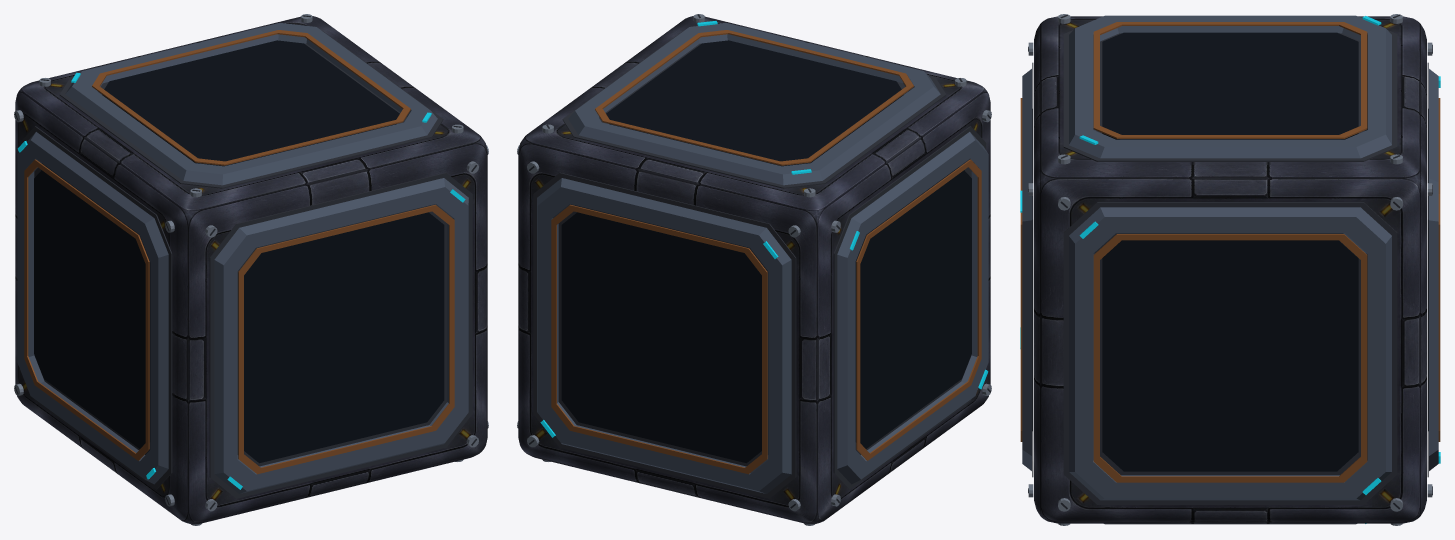
File: rounded-metal-cube.glb
The picture shows the model from 3 angles, left to right: view 1: azimuth 30°, elevation 25°; view 2: azimuth 150°, elevation 25°; view 3: azimuth 270°, elevation 25°; orthographic projection. The views are drawn at different scales.
Visible parts, largest first — view 1: Reusable rounded metal cube; view 2: Reusable rounded metal cube; view 3: Reusable rounded metal cube.
Boxes of the visible parts, x1=… form: Reusable rounded metal cube: x1=14, y1=14, x2=488, y2=525; Reusable rounded metal cube: x1=517, y1=14, x2=991, y2=525; Reusable rounded metal cube: x1=1020, y1=14, x2=1440, y2=525.
Bounding box in the file's own units: 2.14 × 2.14 × 2.14.
Materials: 8 (1 with a texture image).
